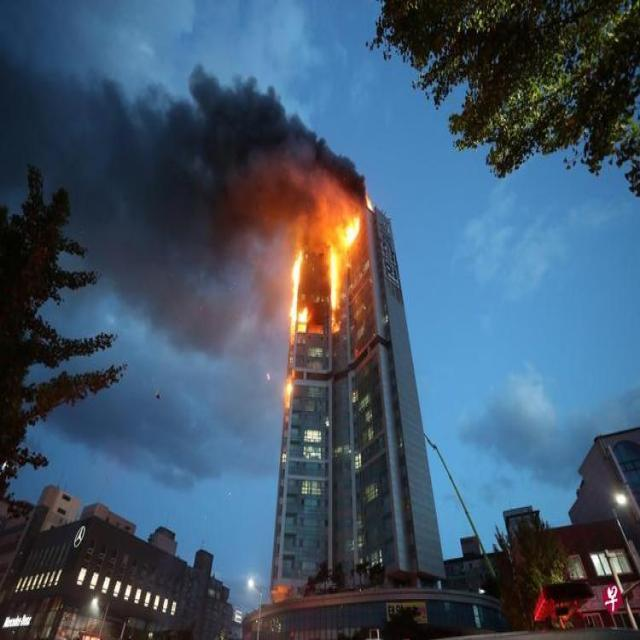Fire: (290, 253, 309, 328), (339, 214, 361, 249), (328, 244, 338, 314)
Smoke: (124, 57, 295, 328), (296, 108, 366, 199)
